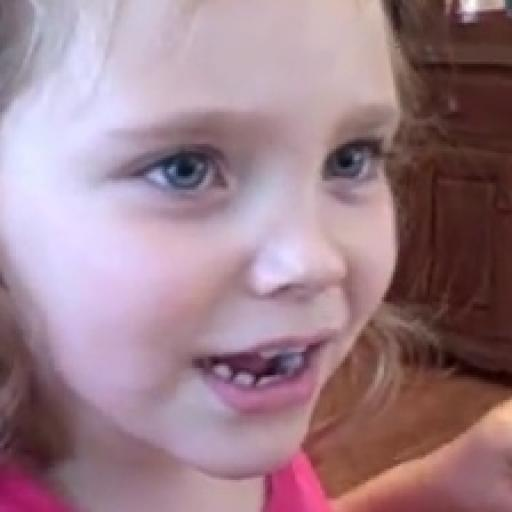Autism: (0, 30, 402, 487)
